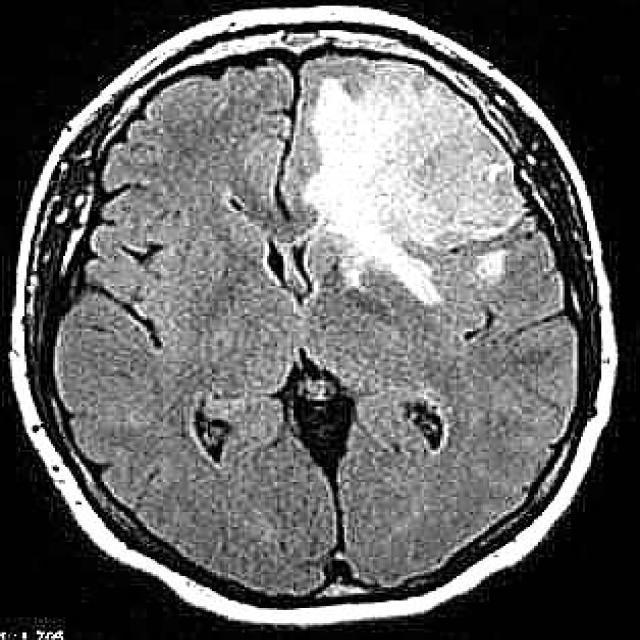brain tumor: (306, 68, 528, 305)
